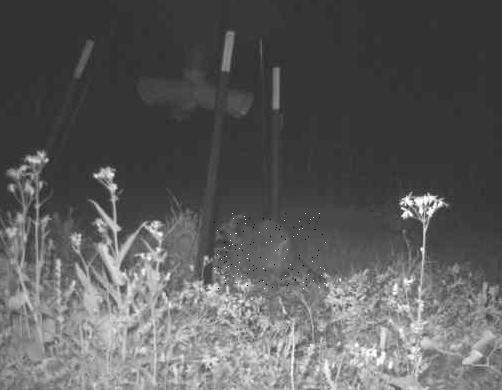Raccoon: (214, 214, 326, 290)
